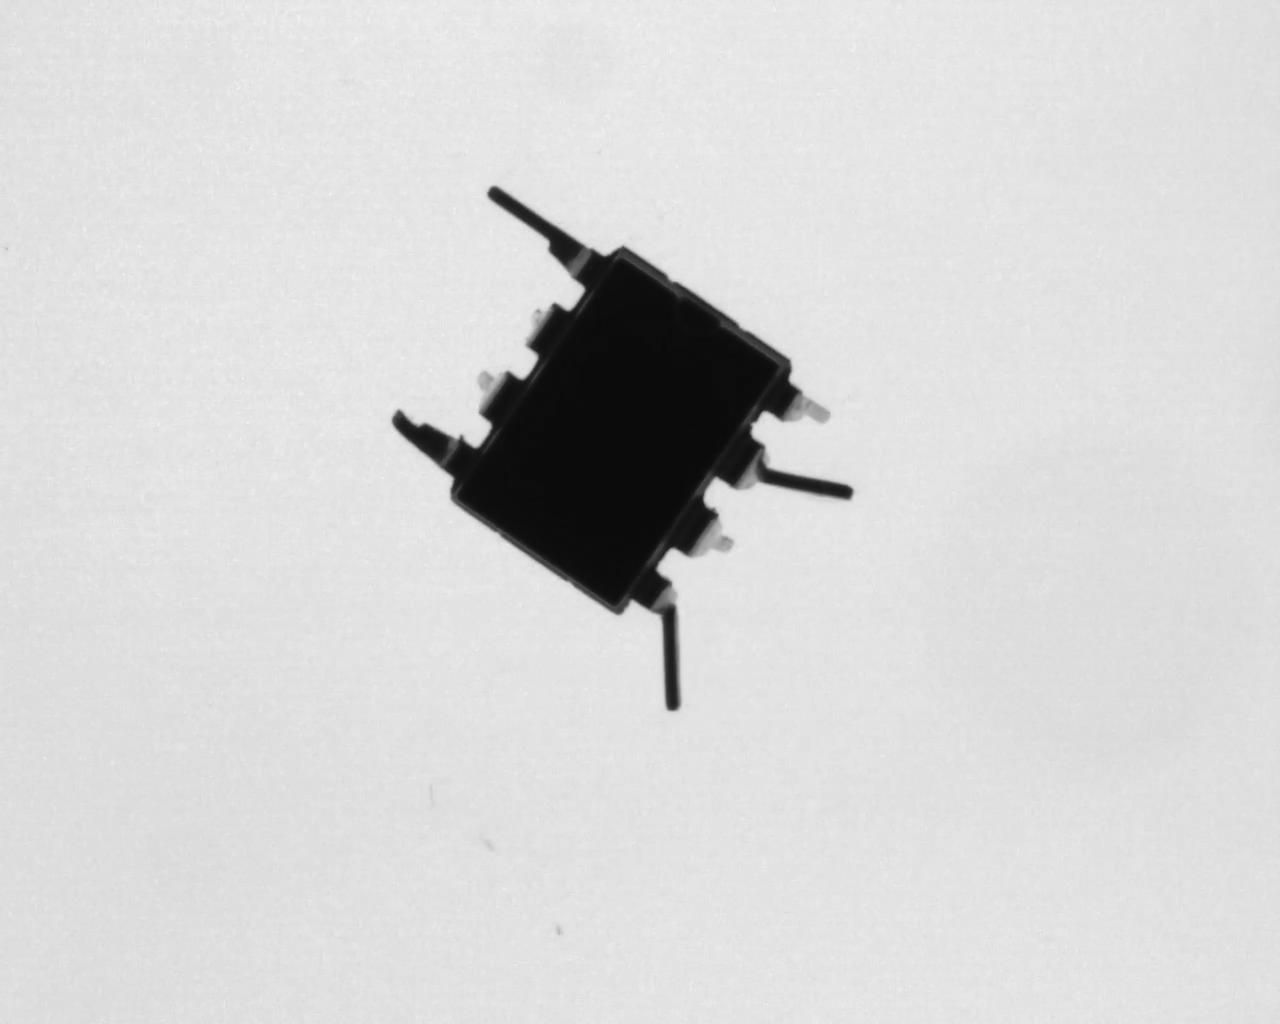Leg: (487, 186, 613, 288), (713, 432, 855, 503), (634, 564, 684, 713), (392, 411, 475, 483), (676, 505, 734, 560), (765, 378, 831, 424), (475, 367, 521, 427), (525, 300, 571, 355)
